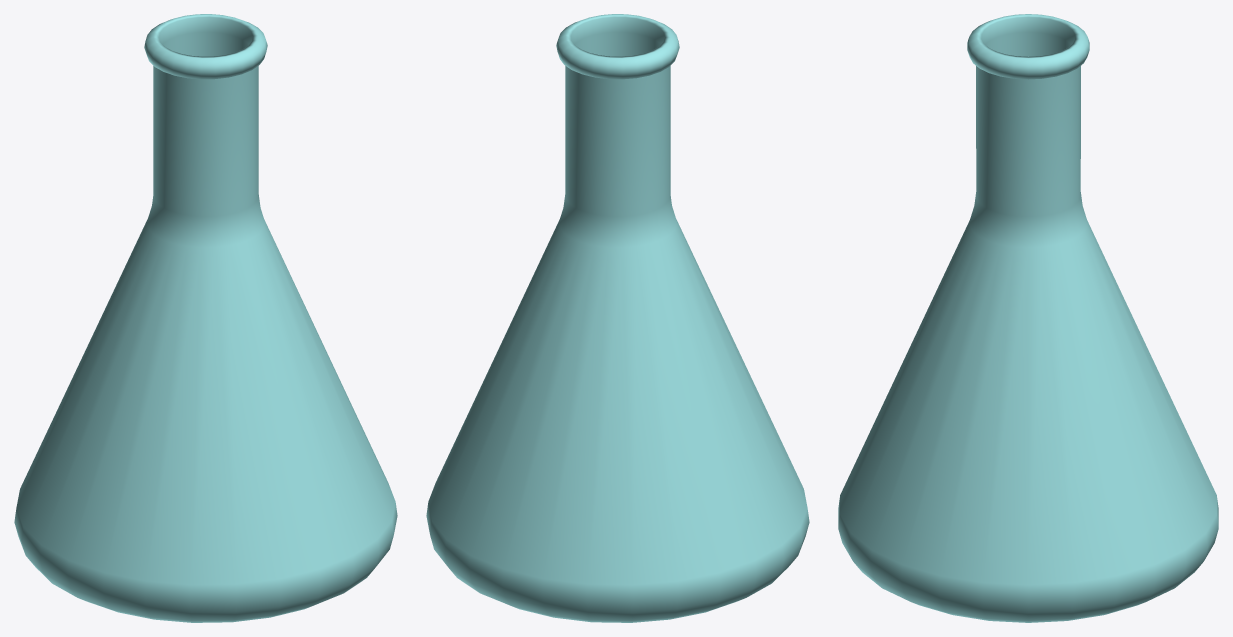
Rendered from Beaker.fbx.
The picture shows the model from 3 angles, left to right: view 1: azimuth 30°, elevation 25°; view 2: azimuth 150°, elevation 25°; view 3: azimuth 270°, elevation 25°; orthographic projection.
Visible parts, largest first — view 1: Flask_05; view 2: Flask_05; view 3: Flask_05.
Boxes of the visible parts, x1,y1,x2,y2 form: Flask_05: [14, 14, 397, 622]; Flask_05: [426, 14, 809, 622]; Flask_05: [838, 14, 1218, 622].
Bounding box in the file's own units: 0.1598 × 0.2393 × 0.1586.
